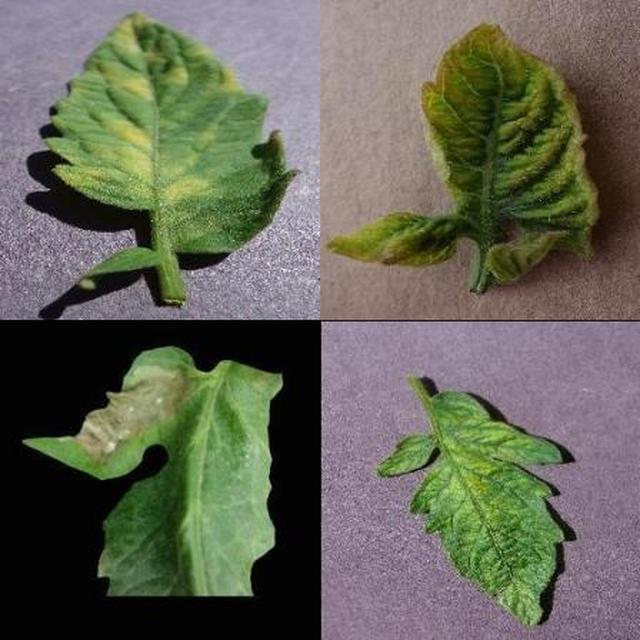Leaf Mold: (220, 190, 640, 640)
